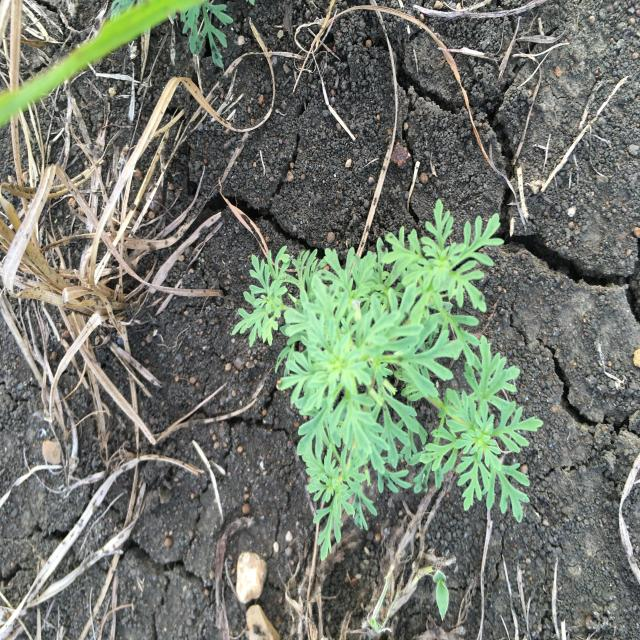Ragweed: (230, 197, 545, 563), (109, 0, 234, 70)
